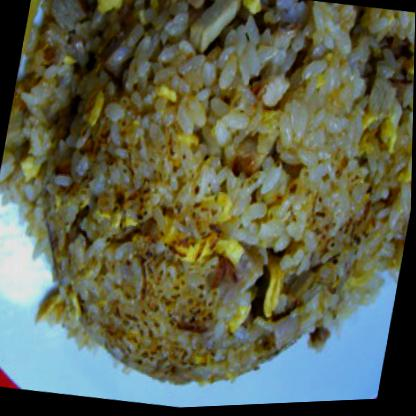fried rice: (4, 0, 415, 410)
